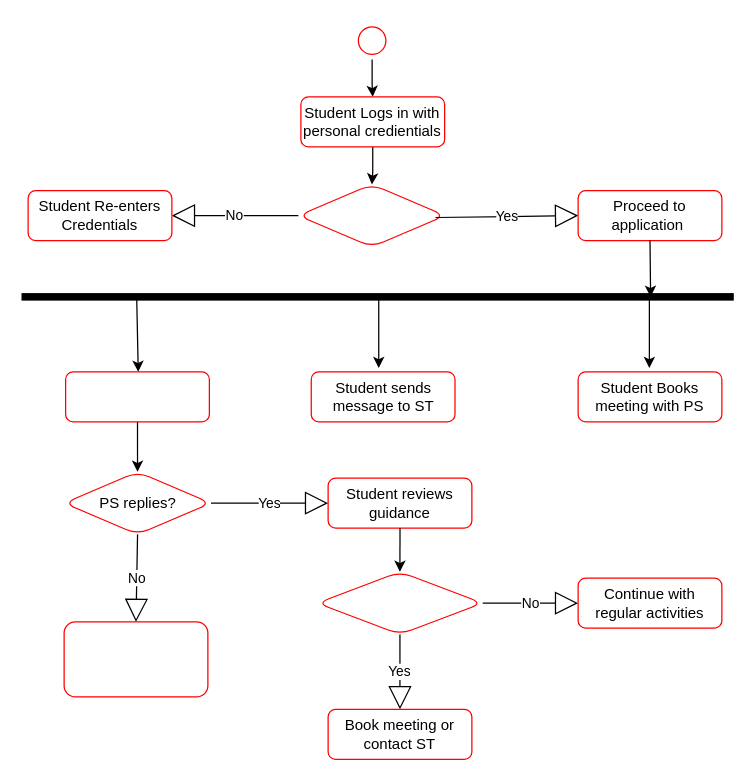
The diagram is 755 pixels wide and 781 high, and some of its shapes have lost their labels. The shapes that lost their labels are listed below. From the top down, each one's centre as x and y in pixels, then its label:
point 371,215: Credentials Verified?
point 136,396: Student sends message to PS
point 399,602: Need Additional Support?
point 135,659: Student waits for amount of time before sending message to ST
